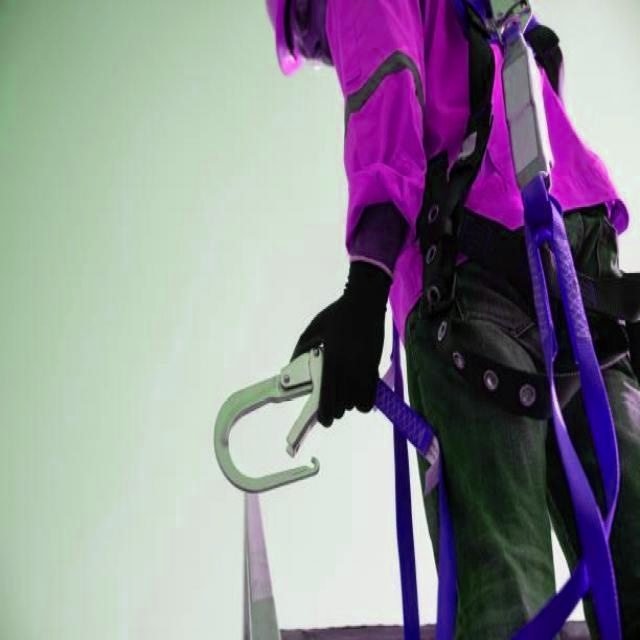safety belt: (321, 1, 624, 611)
